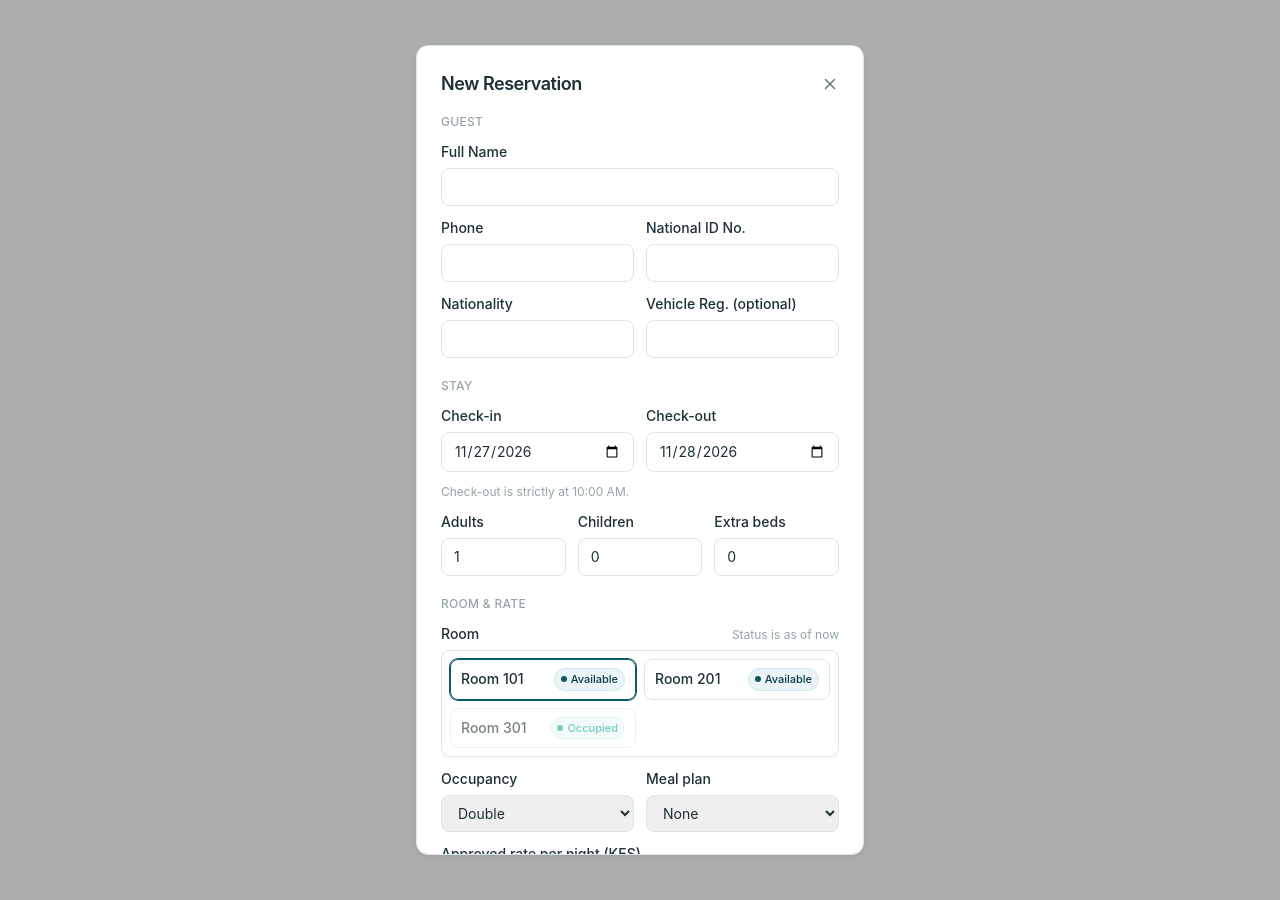
it: CreateReservationModal pricing › re-quotes when a different room is chosen and shows the new rate
The image size is (1280, 900).
What coordinates should you click on to do the following:
click the button "Room 201 Available"
I would click on:
 (737, 679)
Its box is 644,659 -> 830,700.
(page scrolled)
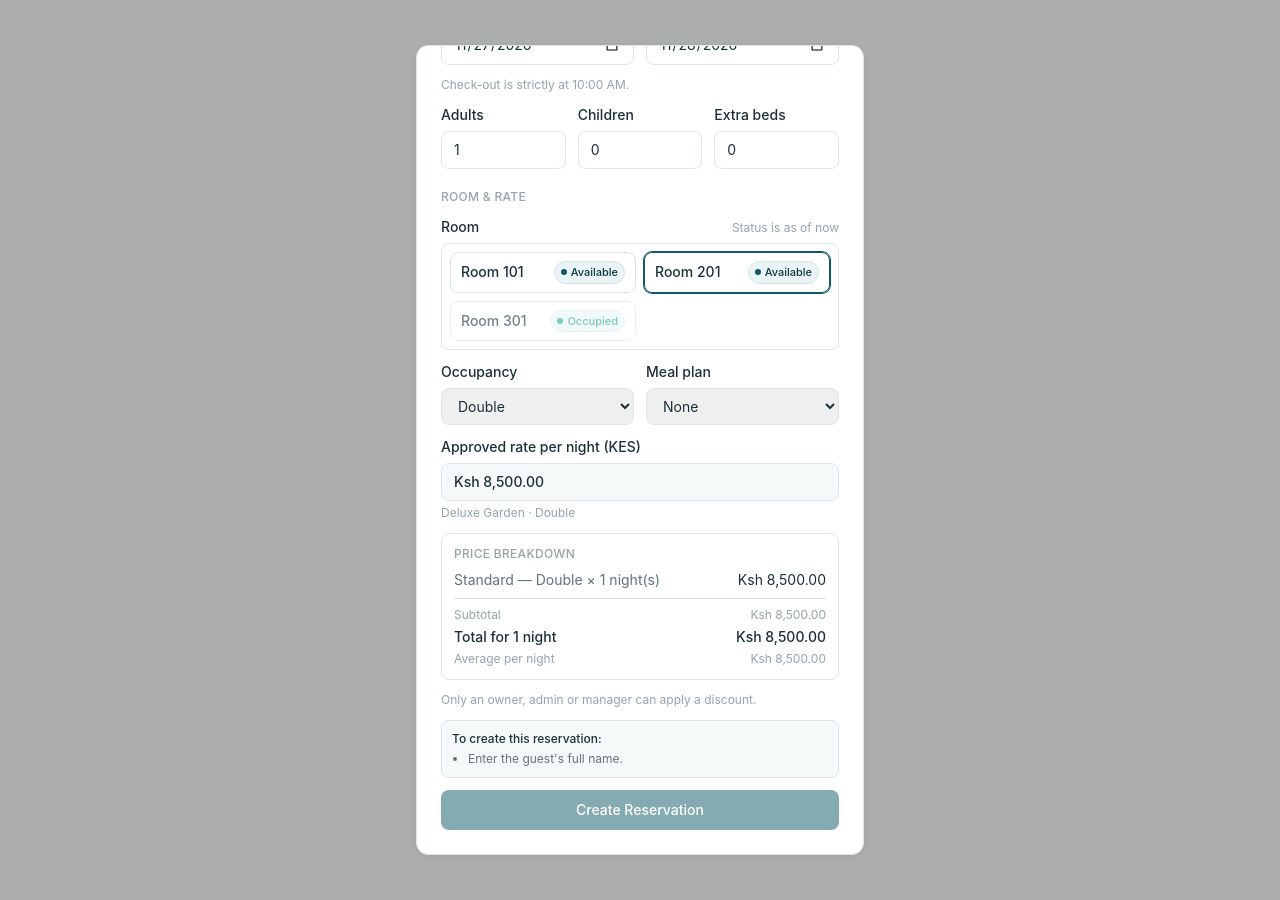
Check: the text "Approved rate per night (KES)" is shown, box 441,438 -> 641,455
Check: the text with test id "approved-rate" shows "8,500", box 454,473 -> 544,490
